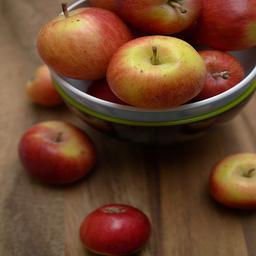apple: (37, 5, 136, 82), (105, 34, 206, 108), (17, 120, 95, 185), (177, 1, 256, 52), (76, 202, 151, 255), (115, 1, 203, 34), (207, 152, 256, 210), (196, 48, 243, 99)
